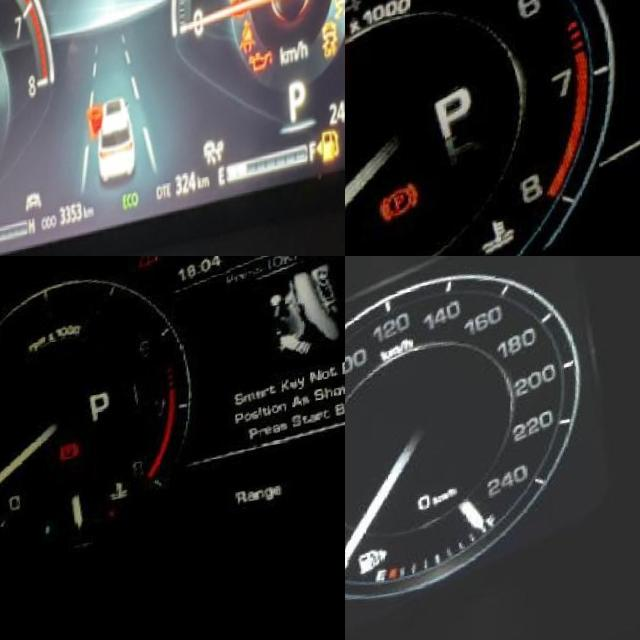Engine cooling system: (482, 225, 532, 256), (108, 482, 137, 517)
